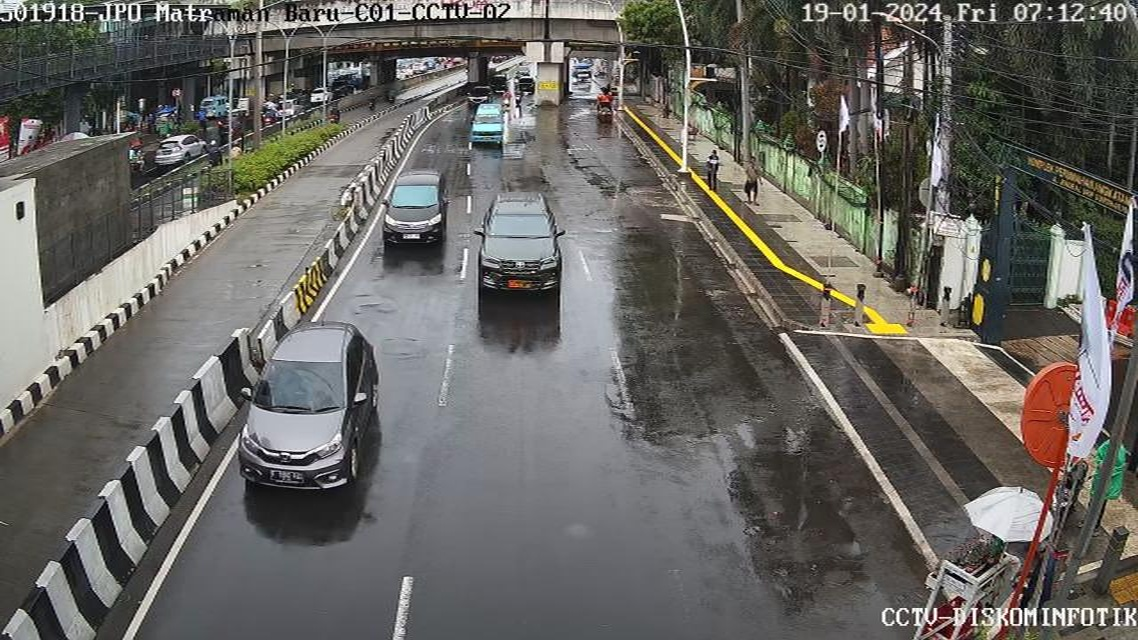Gerobak: (882, 530, 1030, 640)
